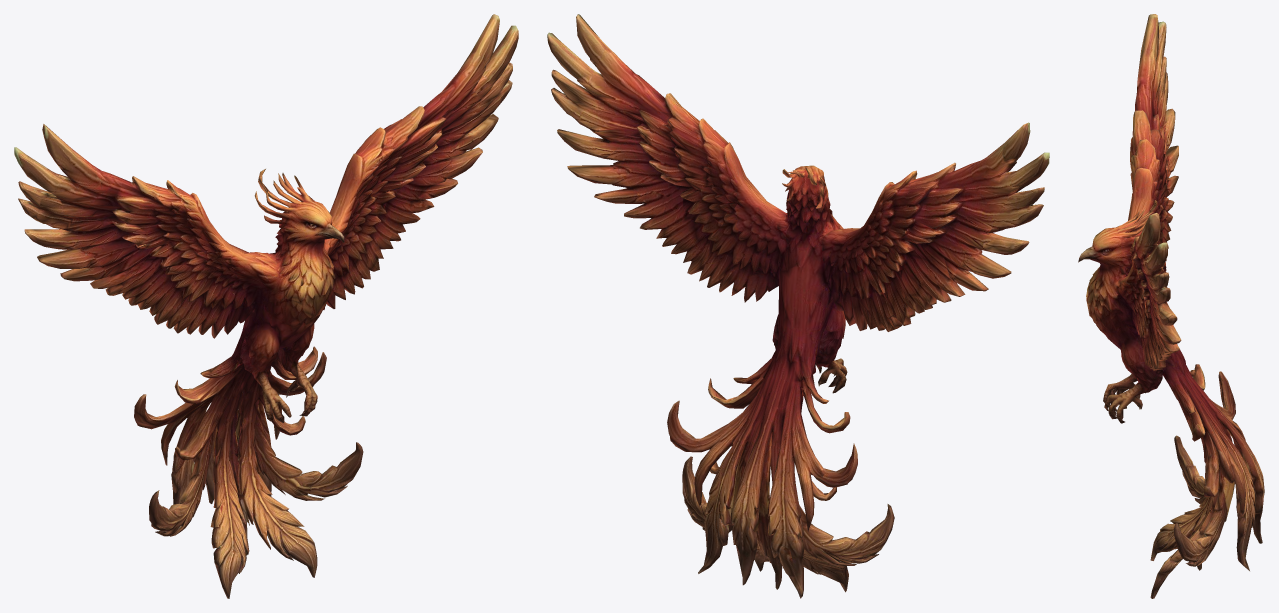
The model's file is 불사조.glb.
3 renders of one model, left to right at view 1: azimuth 30°, elevation 25°; view 2: azimuth 150°, elevation 25°; view 3: azimuth 270°, elevation 25°, orthographic. The views are drawn at different scales.
Visible parts, largest first — view 1: Mesh_0; view 2: Mesh_0; view 3: Mesh_0.
Part boxes in pixels (x1,y1,x2,y2): Mesh_0: (14,14,518,598); Mesh_0: (547,14,1049,598); Mesh_0: (1078,14,1264,598).
Bounding box in the file's own units: 1.9 × 1.87 × 0.6753.
Materials: 1 (1 with a texture image).
